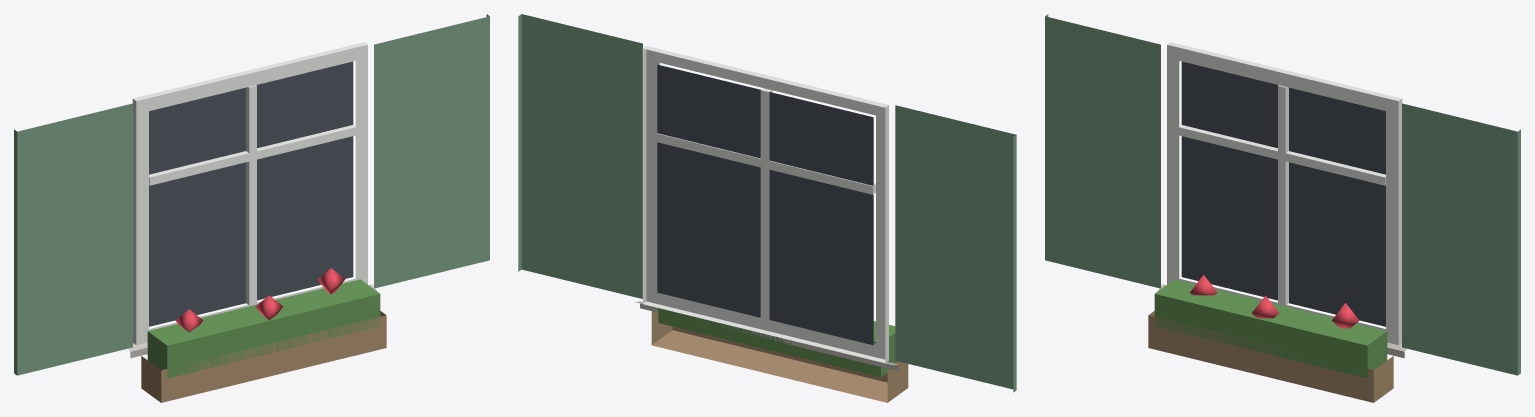
File: window.glb
3 renders of one model, left to right at view 1: azimuth 30°, elevation 25°; view 2: azimuth 150°, elevation 25°; view 3: azimuth 330°, elevation 25°, orthographic. The views are drawn at different scales.
Visible parts, largest first — view 1: window; view 2: window; view 3: window.
Part boxes in pixels (bbox=[...]): window: bbox=[14, 14, 489, 402]; window: bbox=[518, 14, 1016, 402]; window: bbox=[1045, 14, 1520, 402].
Size of the model in its own units: 3.02 by 1.75 by 0.3079.
